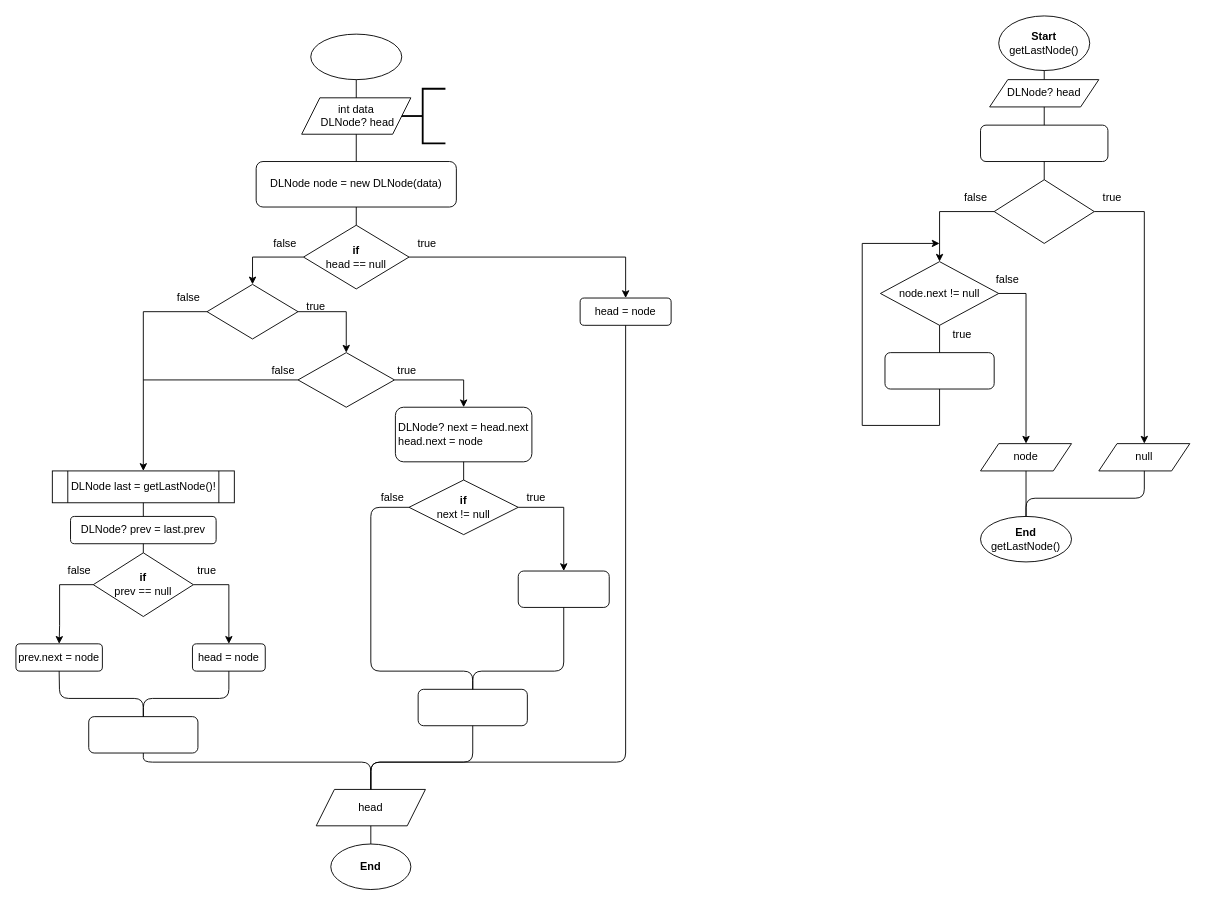
The diagram is 1206 pixels wide and 905 high, and some of its shapes have lost their labels. The shapes that lost their labels are listed below. From the top down, each one's box as (x1, y1, x2, y2) in pixels, then its label:
(310, 33, 402, 80): Start
(399, 87, 446, 144): int data; DLNode? prev; DLNode? next;
(980, 124, 1108, 162): DLNode? node = head
(993, 179, 1094, 243): if node == null
(206, 283, 298, 339): if data > 0
(297, 352, 394, 407): if data < 99
(884, 352, 994, 389): node = node.next
(517, 570, 609, 607): next.prev = node
(417, 688, 527, 726): node.next = next node.prev = head
(88, 716, 198, 753): last.prev = node node.next = last
